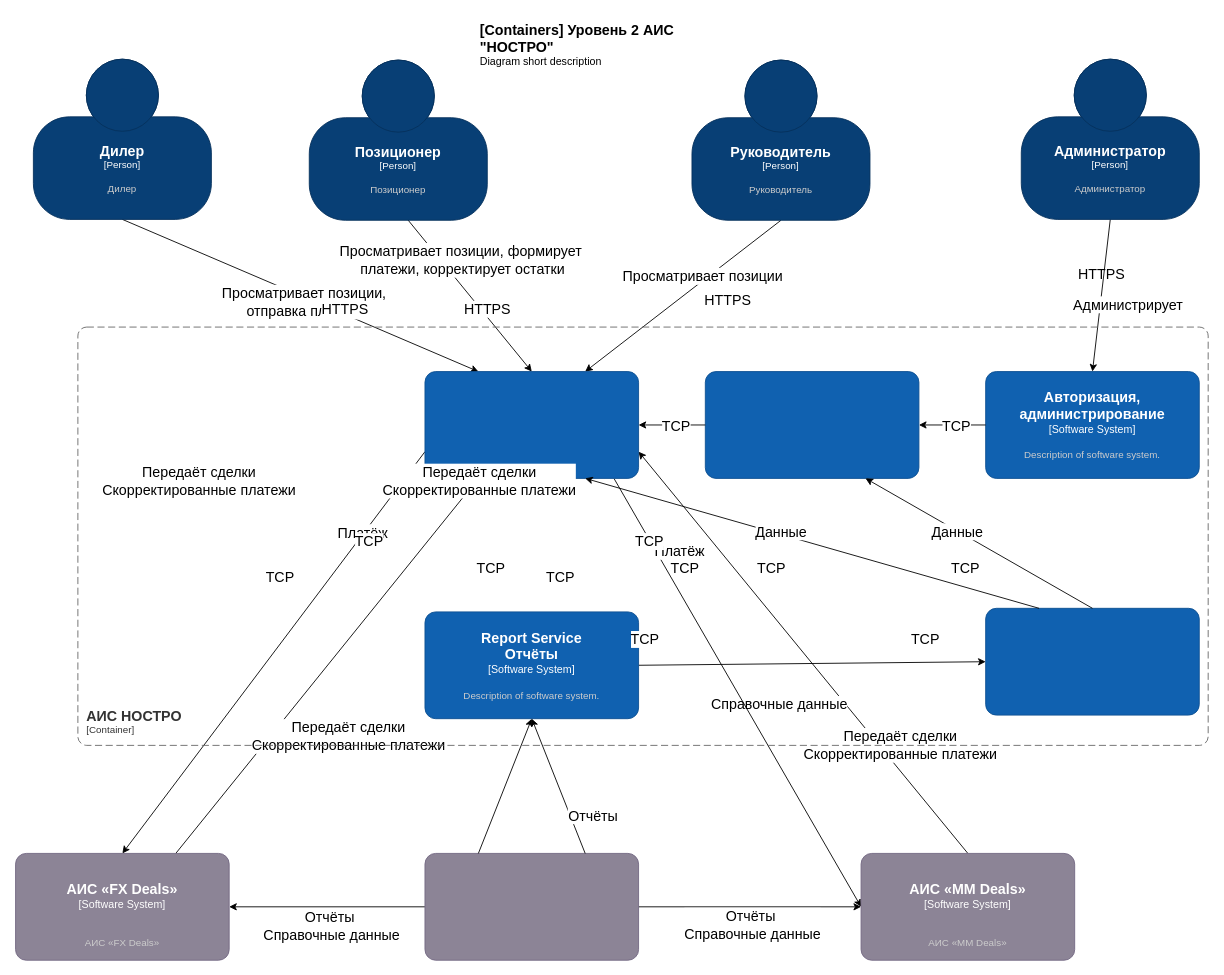
This 1224x975 diagram has some shape labels left out. Here are the shapes that lost their labels. From the top down, the centre of each, then its label:
point (531, 424): Web JavaScript Вэб клиент [Software System] Description of software system.
point (811, 424): API Application Pyton [Software System] Description of software system.
point (1092, 661): Database PostreSQL [Software System] Description of software system.
point (531, 906): АИС «НСИ» АИС Отчёты [Software System] АИС «НСИ» АИС Отчёты
